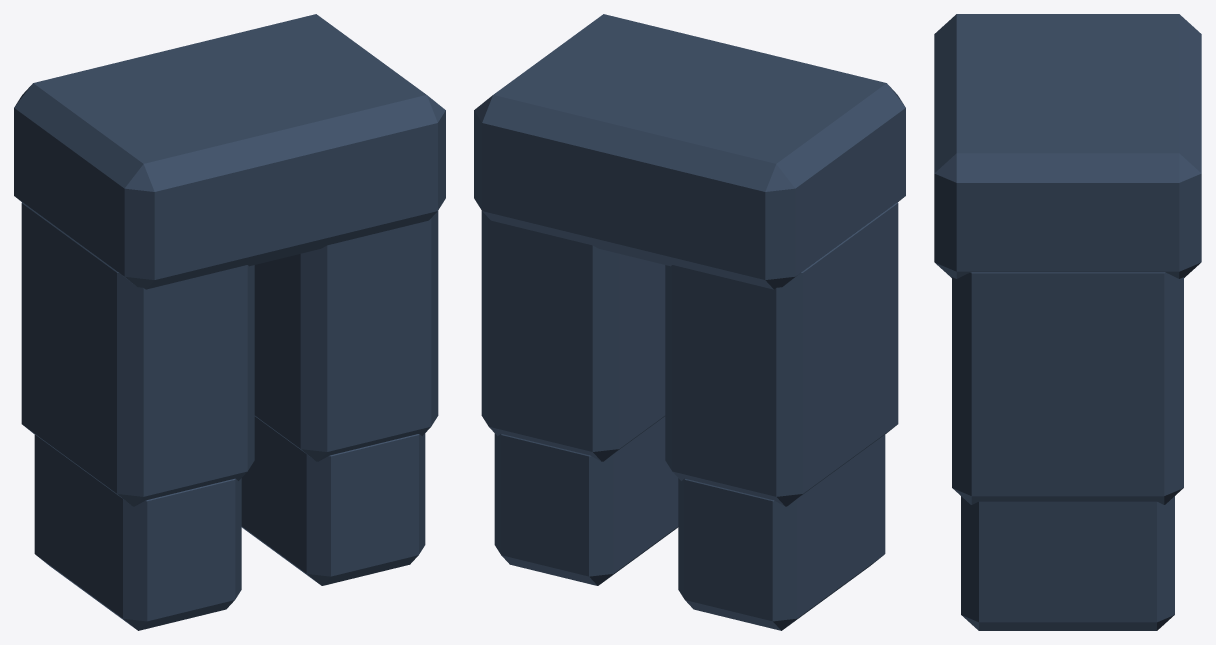
File: SM_NPC_Legs_001_Pants.glb
3 renders of one model, left to right at view 1: azimuth 30°, elevation 25°; view 2: azimuth 150°, elevation 25°; view 3: azimuth 270°, elevation 25°, orthographic.
Parts seen in each view (by area): view 1: SM_NPC_Legs_001_Pants; view 2: SM_NPC_Legs_001_Pants; view 3: SM_NPC_Legs_001_Pants.
Part boxes in pixels (x1=…): SM_NPC_Legs_001_Pants: x1=14, y1=14, x2=445, y2=630; SM_NPC_Legs_001_Pants: x1=474, y1=14, x2=905, y2=630; SM_NPC_Legs_001_Pants: x1=934, y1=14, x2=1201, y2=630.
Bounding box in the file's own units: 0.42 × 0.595 × 0.3.
